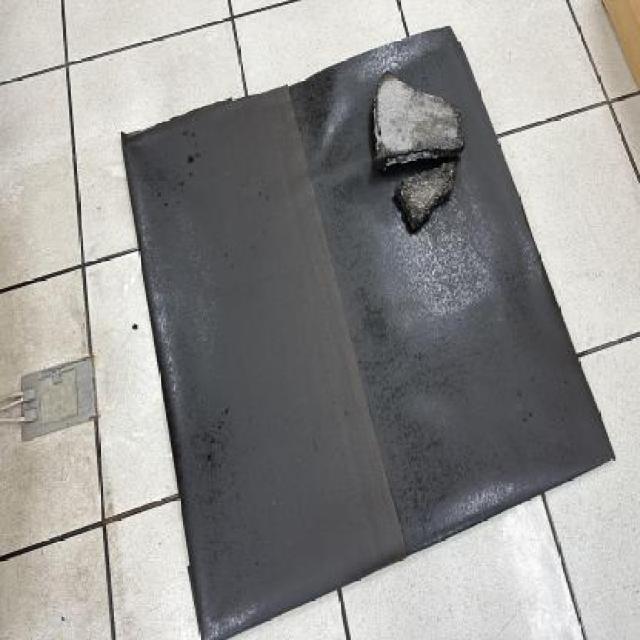Road Debris: (406, 87, 464, 155), (398, 169, 460, 229)
